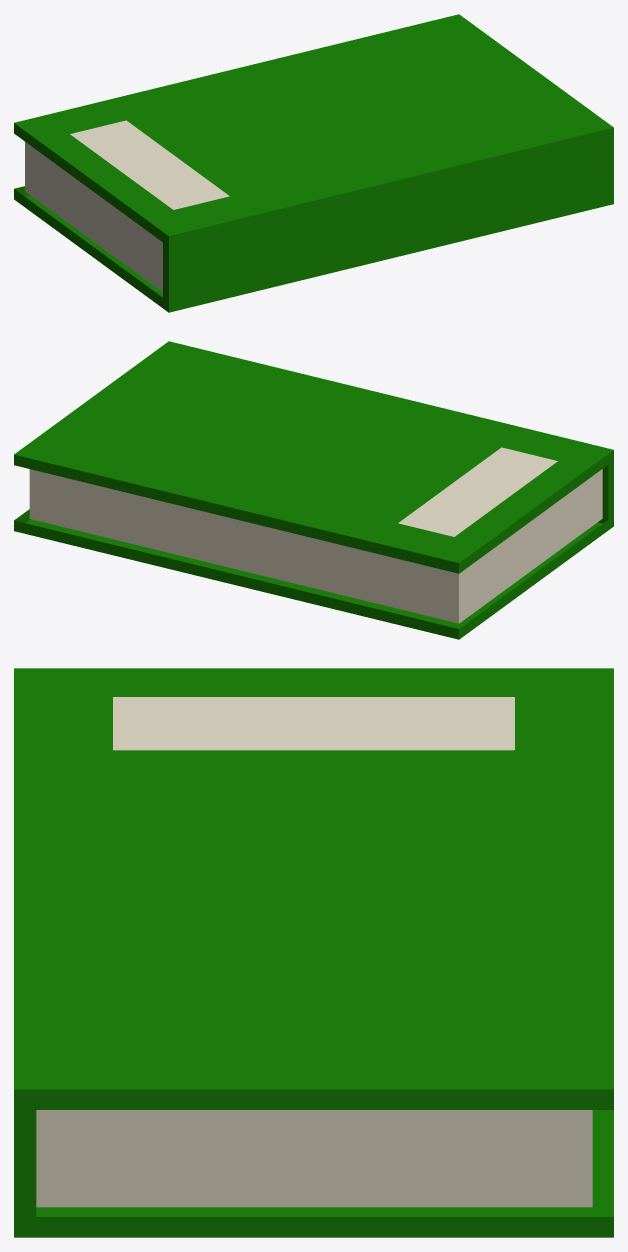
Rendered from Libro1.fbx.
The picture shows the model from 3 angles, top to bottom: view 1: azimuth 30°, elevation 25°; view 2: azimuth 150°, elevation 25°; view 3: azimuth 270°, elevation 25°; orthographic projection. The views are drawn at different scales.
Parts seen in each view (by area): view 1: Libro2; view 2: Libro2; view 3: Libro2.
Boxes of the visible parts, <box> form: Libro2: <box>14,14,613,312</box>; Libro2: <box>14,341,613,639</box>; Libro2: <box>14,668,613,1237</box>.
Bounding box in the file's own units: 0.3902 × 0.0641 × 0.2351.
